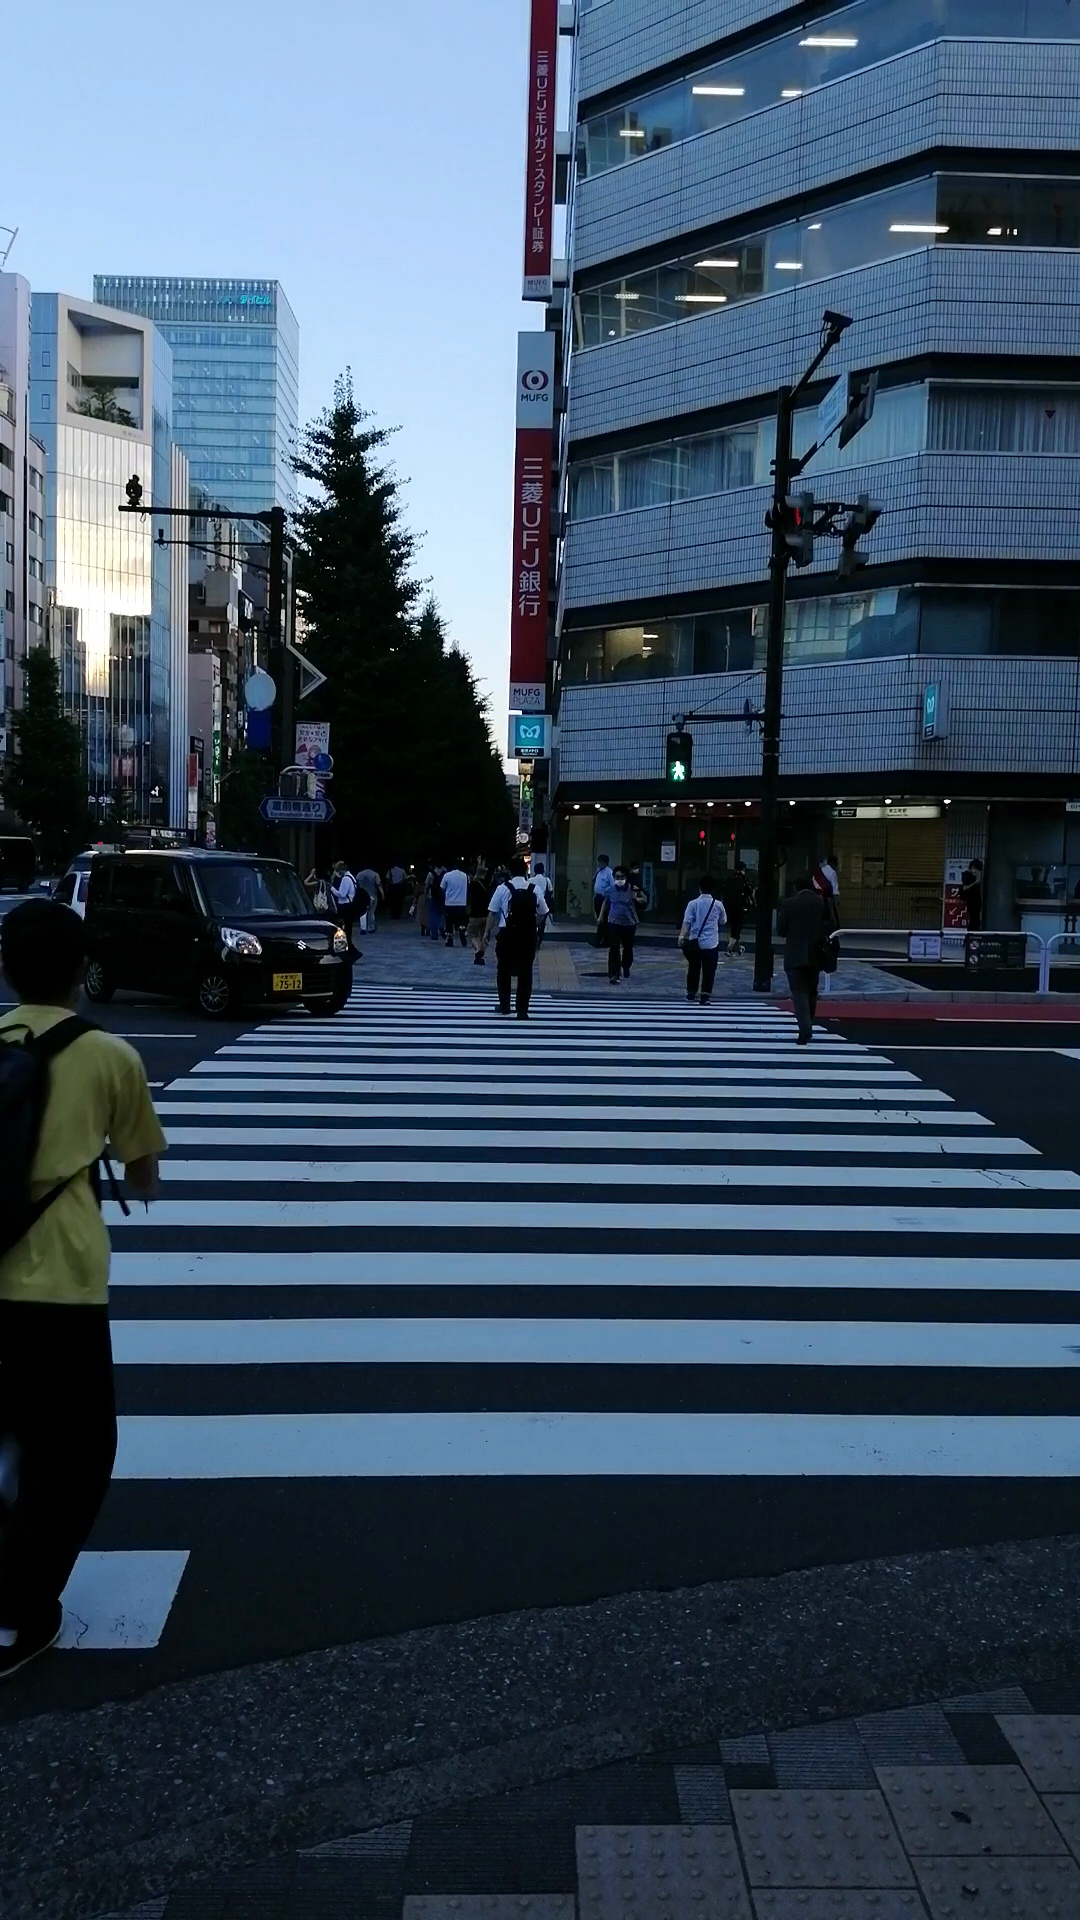green: (665, 732, 694, 789)
